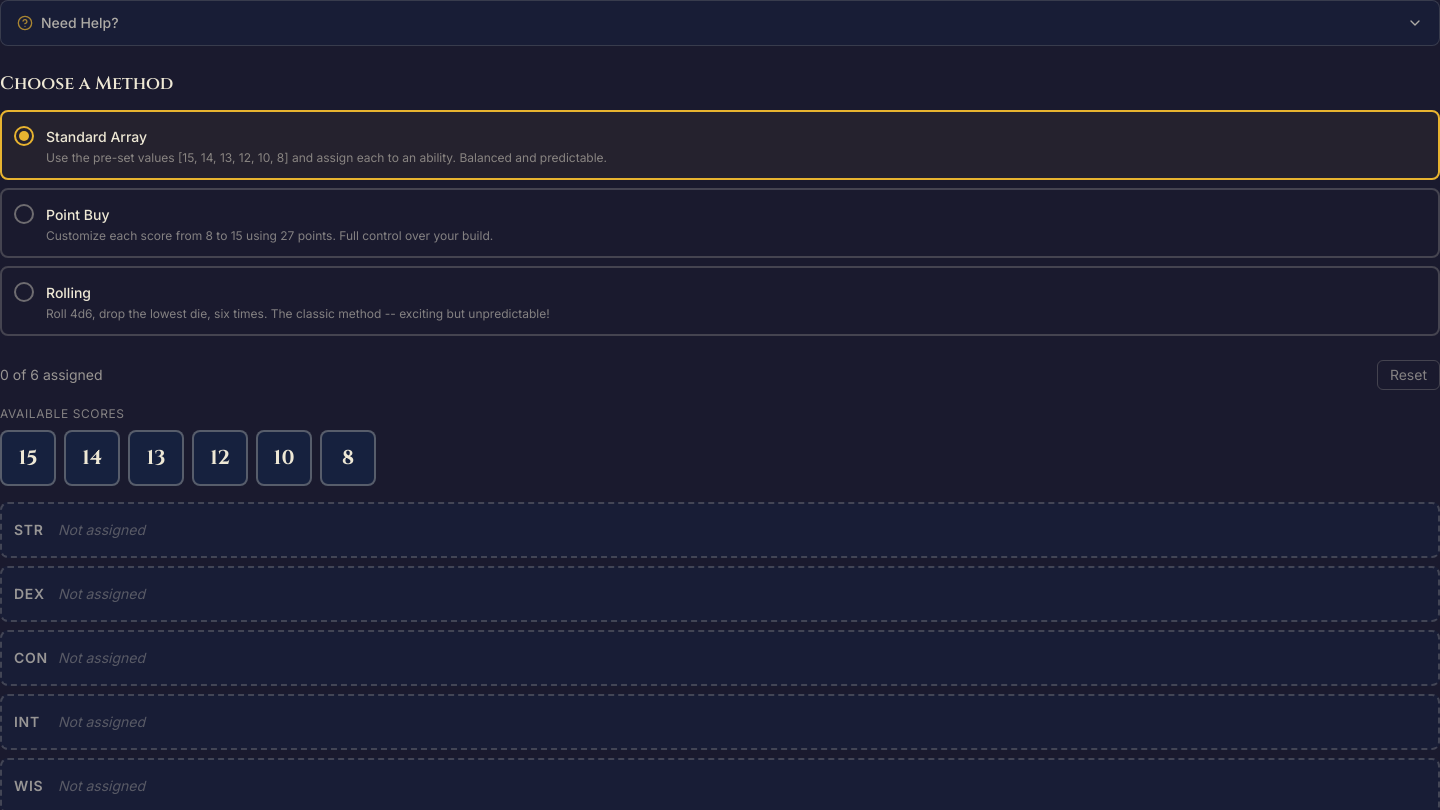
Test case: AbilityScoreStep › should render Rolling interface when Rolling is selected
This screenshot has width=1440, height=810.
What coordinates should you click on to do the following:
click the text "Rolling"
I would click on:
 (68, 292)
Its box is [46,284,91,301].
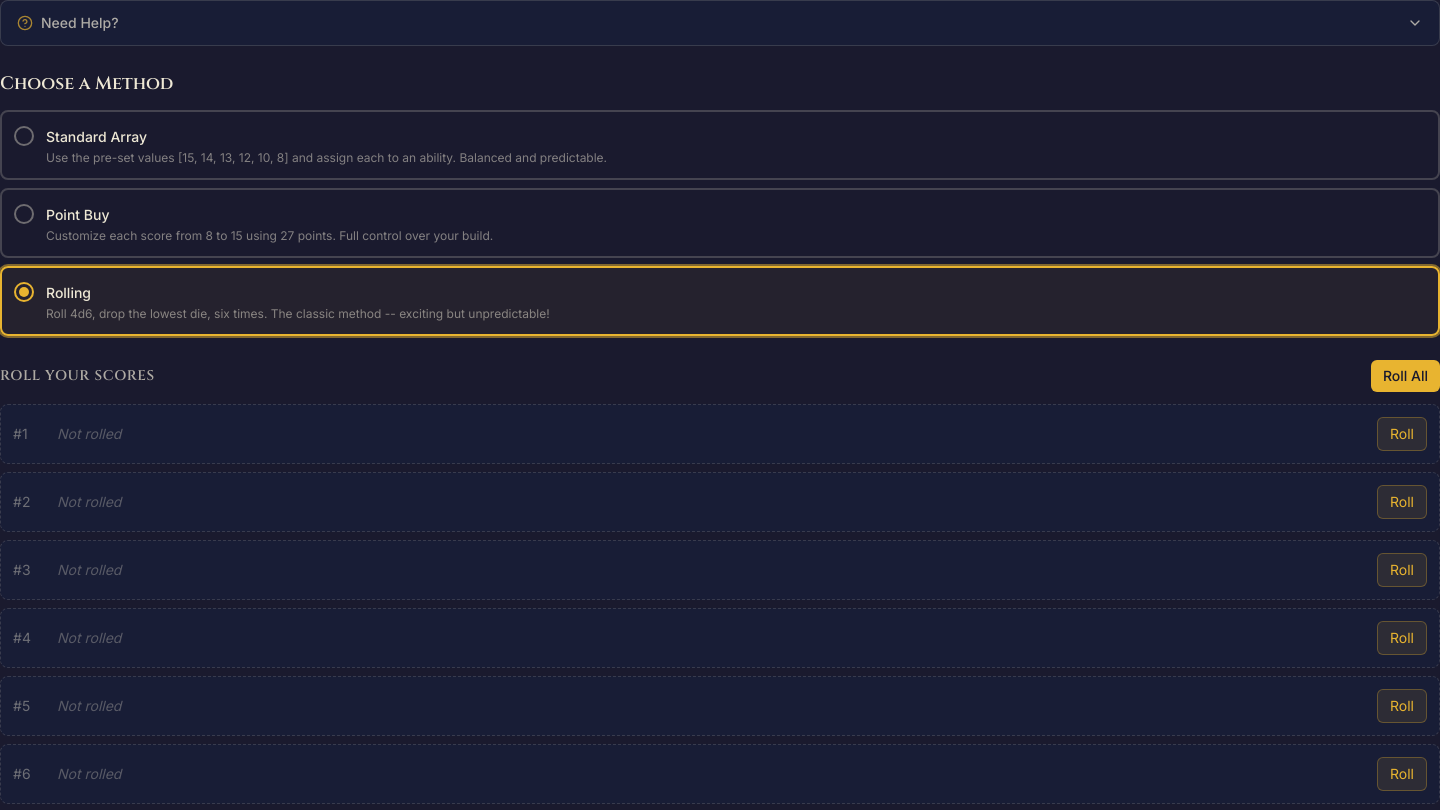
Expected: the element with test id "dice-rolling-interface" is shown, [0,360,1439,804]
